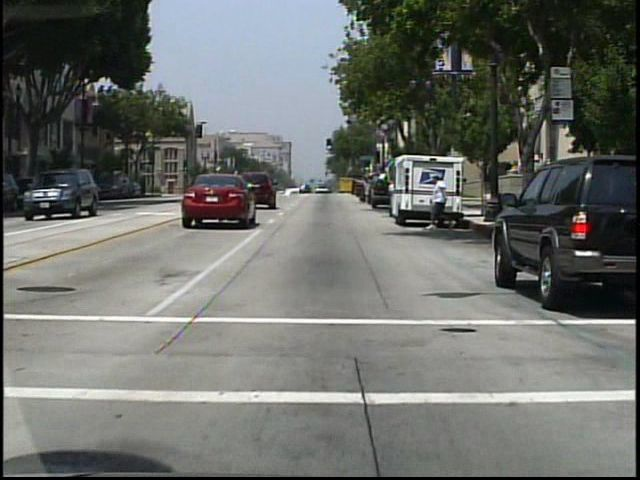person: (423, 173, 454, 232), (355, 173, 375, 209)
